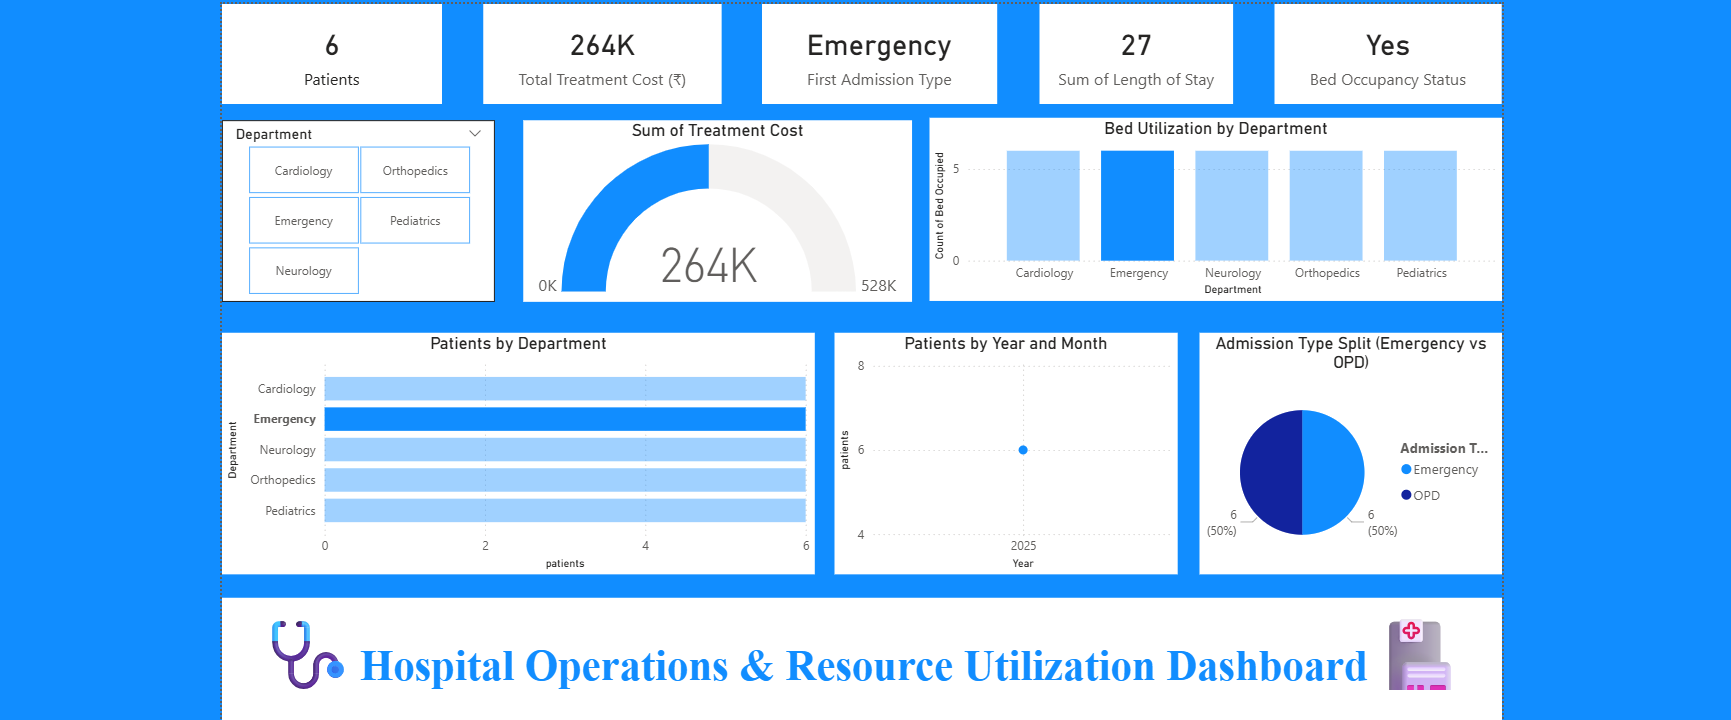

The dashboard page shown, as its layout file describes it:
{"tool":"powerbi","page":{"name":"Page 1","canvas":[1280,720],"ordinal":0},"visuals":[{"type":"card","title":"Bed Occupancy Status","fields":{"Values":["Min(hospital_operations_data.Bed Occupied)"]},"box":[1052.9,0,227.1,100],"z":0},{"type":"card","fields":{"Values":["Sum(hospital_operations_data.Treatment Cost)"]},"box":[261.4,0,238.6,100],"z":1000},{"type":"card","fields":{"Values":["Sum(hospital_operations_data.Length of Stay)"]},"box":[817.5,0,193.8,100],"z":2000},{"type":"card","fields":{"Values":["hospital_operations_data.patients"]},"box":[0,0,220,100],"z":3000},{"type":"card","fields":{"Values":["Min(hospital_operations_data.Admission Type)"]},"box":[540,0,235,100],"z":4000},{"type":"lineChart","fields":{"Category":["hospital_operations_data.Admission Date.Variation.Date Hierarchy.Year","hospital_operations_data.Admission Date.Variation.Date Hierarchy.Month","hospital_operations_data.Admission Date.Variation.Date Hierarchy.Day"],"Y":["hospital_operations_data.patients"]},"box":[612.9,328.6,342.9,241.4],"z":5000},{"type":"pieChart","title":"Admission Type Split (Emergency vs OPD)","fields":{"Category":["hospital_operations_data.Admission Type"],"Y":["hospital_operations_data.Emergency Patients"]},"box":[977.1,328.6,302.9,241.4],"z":6000},{"type":"clusteredBarChart","fields":{"Y":["hospital_operations_data.patients"],"Category":["hospital_operations_data.Department"]},"box":[0,328.6,592.9,241.4],"z":7000},{"type":"clusteredColumnChart","title":"Bed Utilization by Department","fields":{"Category":["hospital_operations_data.Department"],"Y":["CountNonNull(hospital_operations_data.Bed Occupied)"]},"box":[707.1,114.3,572.9,182.9],"z":8000},{"type":"gauge","fields":{"Y":["Sum(hospital_operations_data.Treatment Cost)"]},"box":[301.4,115.7,388.6,181.4],"z":9000},{"type":"textbox","box":[0,594.3,1280,125.7],"z":10000},{"type":"slicer","fields":{"Values":["hospital_operations_data.Department"]},"box":[0,115.7,272.9,181.4],"z":11000}]}

Visuals, with their boxes on the page's 1280x720 design canvas (x1, y1, x2, y2). These are canvas units, not pixel positions in the 1731x720 screenshot, which may show the page scaled, cropped or inside an application window:
"Bed Occupancy Status" card: [1053,0,1280,100]
card - Sum(hospital_operations_data.Treatment Cost): [261,0,500,100]
card - Sum(hospital_operations_data.Length of Stay): [818,0,1011,100]
card - hospital_operations_data.patients: [0,0,220,100]
card - Min(hospital_operations_data.Admission Type): [540,0,775,100]
lineChart - hospital_operations_data.Admission Date.Variation.Date Hierarchy.Year x hospital_operations_data.Admission Date.Variation.Date Hierarchy.Month: [613,329,956,570]
"Admission Type Split (Emergency vs OPD)" pieChart: [977,329,1280,570]
clusteredBarChart - hospital_operations_data.patients x hospital_operations_data.Department: [0,329,593,570]
"Bed Utilization by Department" clusteredColumnChart: [707,114,1280,297]
gauge - Sum(hospital_operations_data.Treatment Cost): [301,116,690,297]
textbox: [0,594,1280,720]
slicer - hospital_operations_data.Department: [0,116,273,297]
